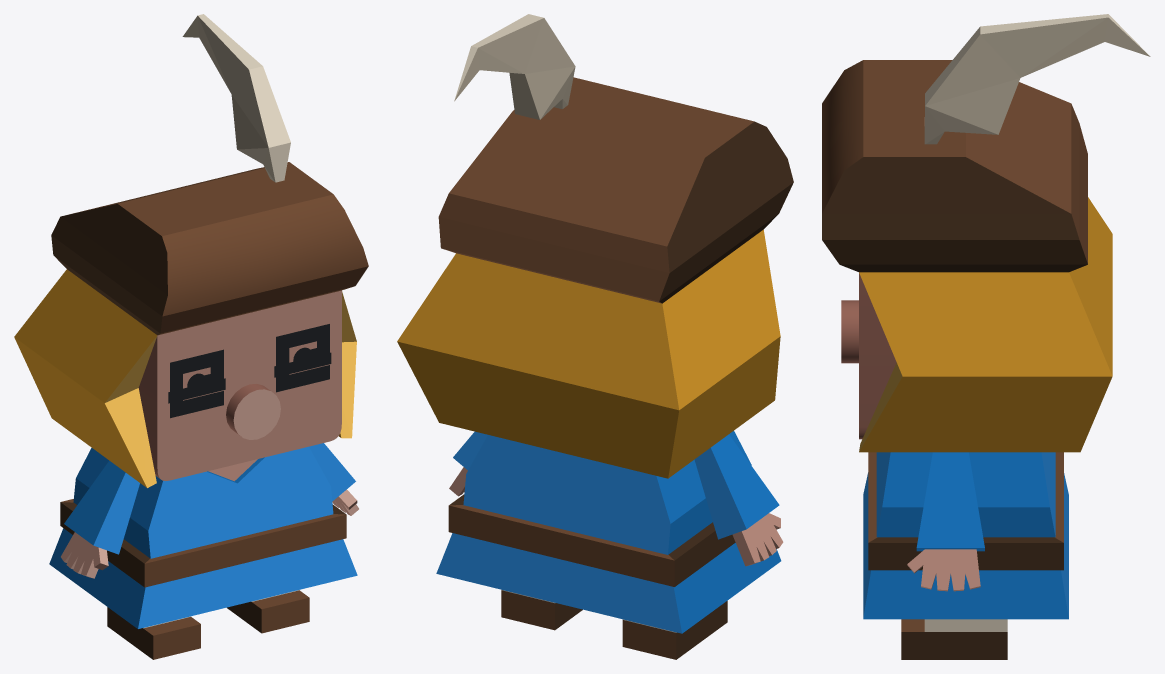
3 renders of one model, left to right at view 1: azimuth 30°, elevation 25°; view 2: azimuth 150°, elevation 25°; view 3: azimuth 270°, elevation 25°, orthographic. The views are drawn at different scales.
Parts seen in each view (by area): view 1: Ch_238_Head, Ch_238, Ch_238_Arm_L, Ch_238_Leg_L, Ch_238_Leg_R, Ch_238_Eye_03_R, Ch_238_Eye_03_L, Ch_238_Arm_R, Ch_238_Eye_02, Ch_238_Eye_01; view 2: Ch_238_Head, Ch_238, Ch_238_Arm_L, Ch_238_Leg_L, Ch_238_Leg_R, Ch_238_Arm_R; view 3: Ch_238_Head, Ch_238, Ch_238_Arm_R, Ch_238_Leg_R.
Boxes of the visible parts, left/top/right/bottom form: Ch_238_Head: left=14, top=14, right=368, bottom=488; Ch_238: left=49, top=446, right=357, bottom=628; Ch_238_Arm_L: left=61, top=460, right=139, bottom=578; Ch_238_Leg_L: left=107, top=607, right=200, bottom=659; Ch_238_Leg_R: left=227, top=590, right=309, bottom=633; Ch_238_Eye_03_R: left=276, top=324, right=329, bottom=392; Ch_238_Eye_03_L: left=170, top=349, right=223, bottom=418; Ch_238_Arm_R: left=309, top=443, right=358, bottom=515; Ch_238_Eye_02: left=168, top=352, right=331, bottom=403; Ch_238_Eye_01: left=187, top=347, right=312, bottom=394; Ch_238_Head: left=397, top=14, right=793, bottom=478; Ch_238: left=436, top=431, right=781, bottom=633; Ch_238_Arm_L: left=694, top=434, right=783, bottom=566; Ch_238_Leg_L: left=622, top=601, right=727, bottom=659; Ch_238_Leg_R: left=501, top=589, right=582, bottom=630; Ch_238_Arm_R: left=449, top=431, right=487, bottom=496; Ch_238_Head: left=822, top=14, right=1150, bottom=452; Ch_238: left=863, top=452, right=1068, bottom=619; Ch_238_Arm_R: left=907, top=452, right=984, bottom=591; Ch_238_Leg_R: left=901, top=619, right=1007, bottom=659.
Bounding box in the file's own units: 7.16 × 13.52 × 6.37.
